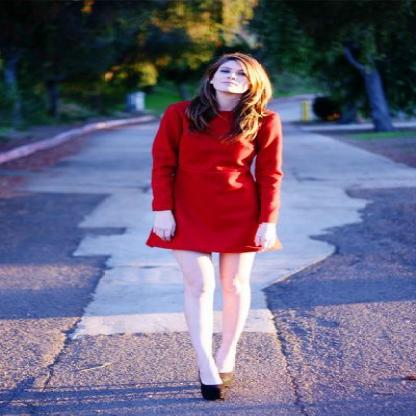dress: (146, 101, 284, 257)
shoe: (200, 382, 224, 401)
